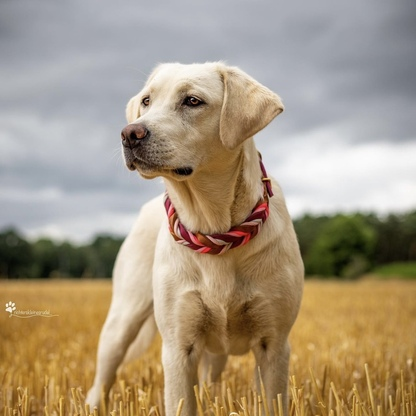labrado: (83, 56, 311, 416)
